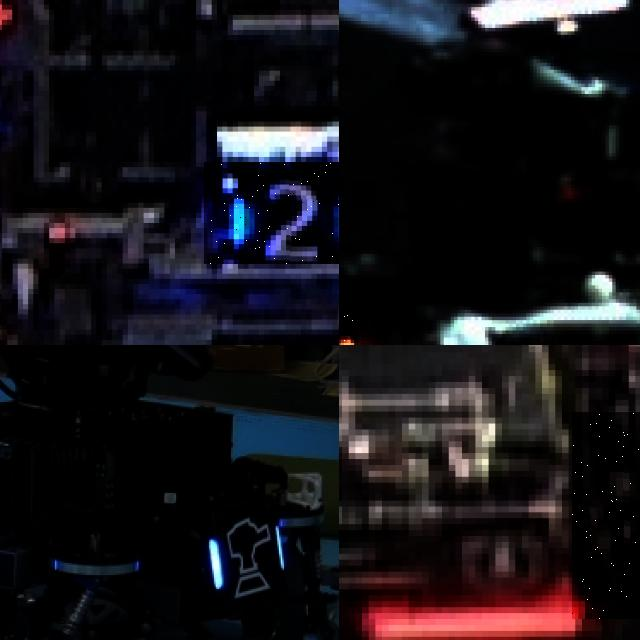B2: (204, 162, 339, 263)
Bs: (207, 510, 289, 600)
R4: (572, 411, 640, 619)
